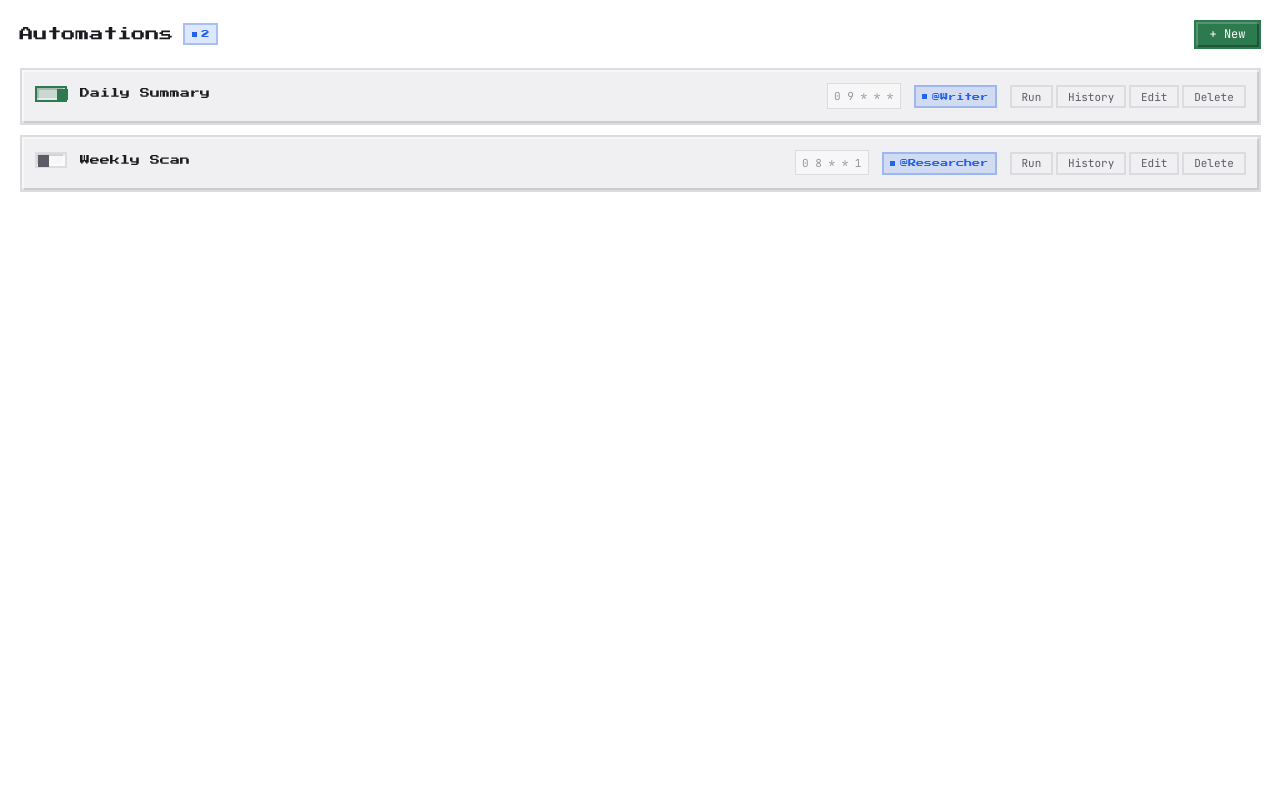
CronJobsPage › opens edit form when clicking Edit
This screenshot has width=1280, height=800.
Click the button "Edit" in the row of "Writer" at (1154, 97), box [1129,85,1179,108]
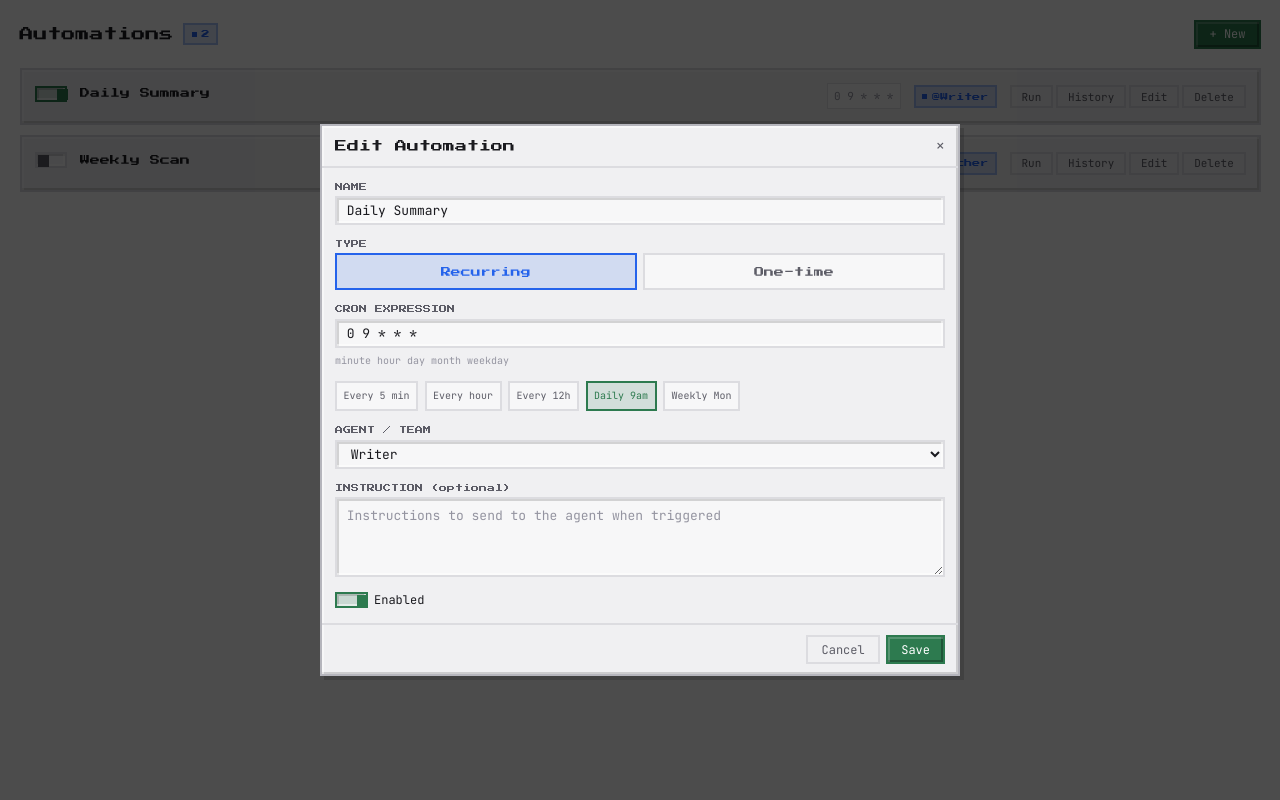
Expected: the heading "Edit Automation" is shown, [335,136,515,156]
